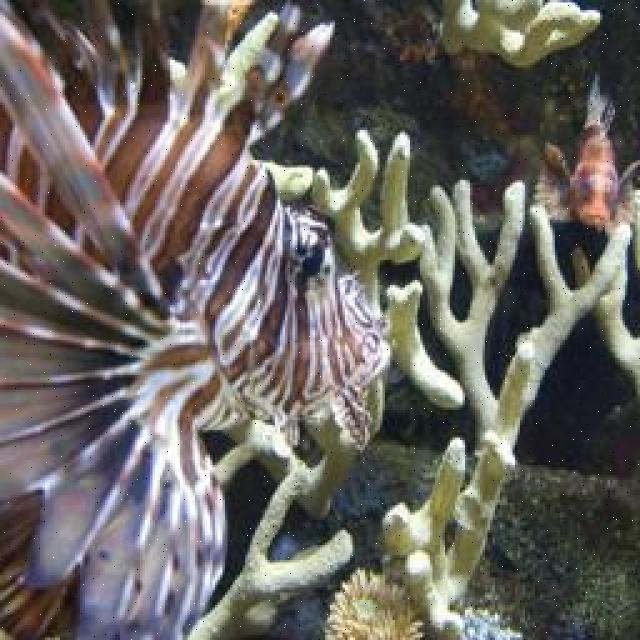fish: (0, 0, 396, 638), (535, 75, 638, 228)
reefs: (382, 178, 632, 637), (266, 130, 464, 409), (188, 470, 354, 637), (217, 363, 393, 520), (444, 0, 604, 68), (572, 245, 638, 389), (325, 563, 422, 638)
